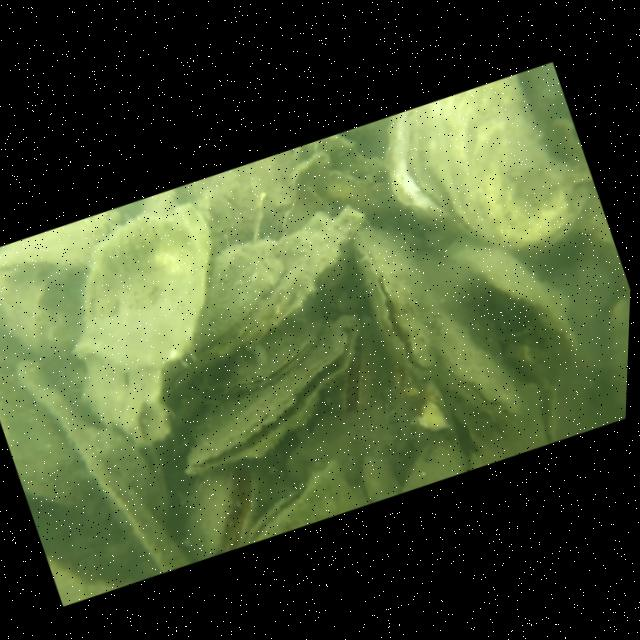Oyster-Closed: (363, 56, 609, 295), (175, 193, 392, 363), (400, 271, 531, 442), (226, 455, 358, 551), (212, 313, 333, 403)
Oyster-Indeterminate: (24, 186, 283, 477), (4, 328, 199, 601), (435, 208, 589, 381)
Oyster-Open: (149, 301, 396, 490), (333, 214, 453, 394), (157, 450, 277, 569), (311, 321, 393, 419)
